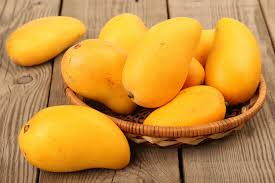mango: (12, 104, 137, 178), (126, 13, 203, 102), (213, 11, 265, 104), (4, 12, 86, 54)
